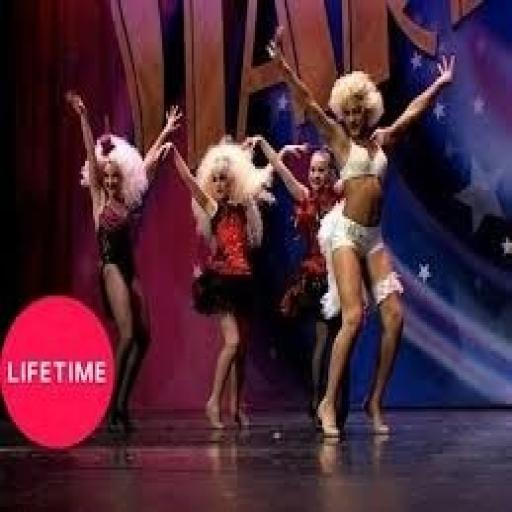dancing: (263, 26, 459, 444), (63, 84, 188, 441), (156, 132, 275, 441)
